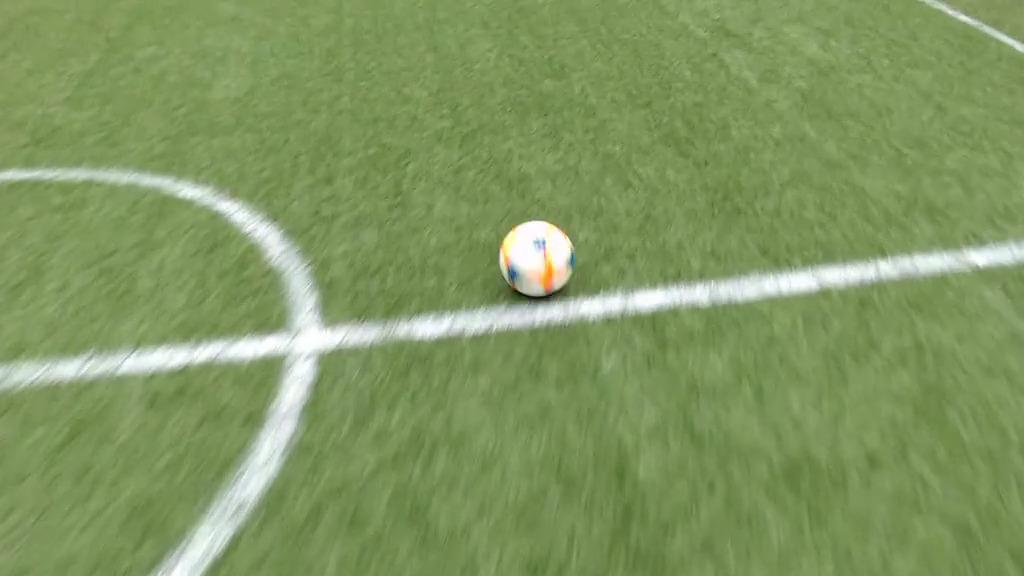ball: (500, 221, 574, 298)
